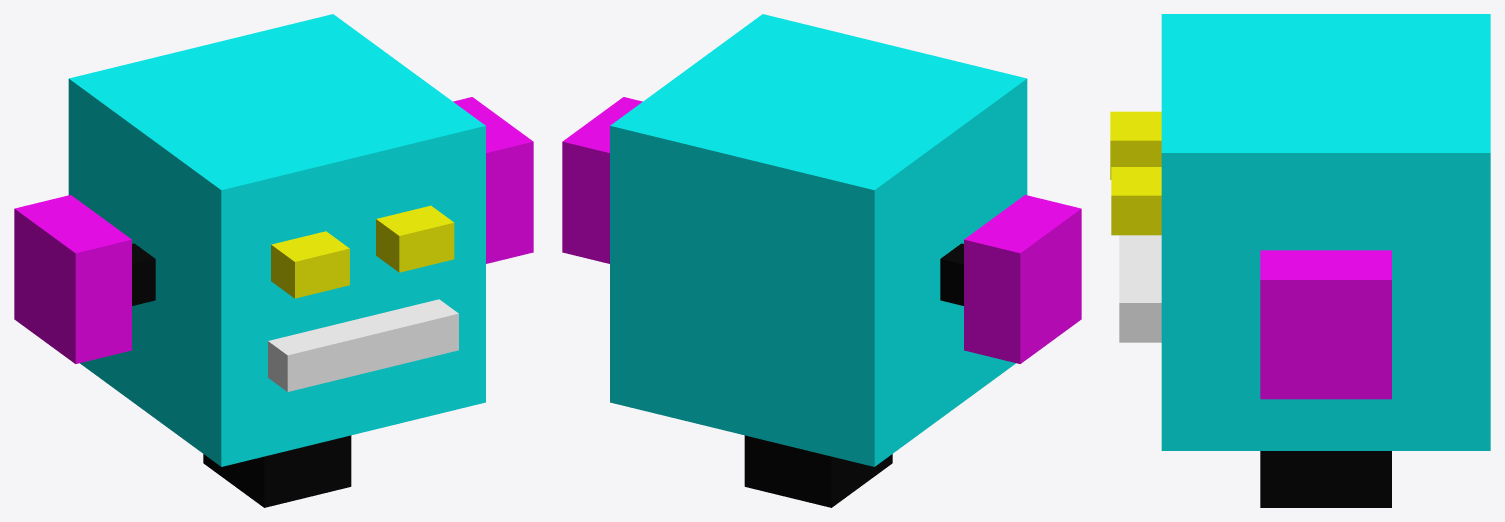
File: head.obj
3 renders of one model, left to right at view 1: azimuth 30°, elevation 25°; view 2: azimuth 150°, elevation 25°; view 3: azimuth 270°, elevation 25°, orthographic. The views are drawn at different scales.
Visible parts, largest first — view 1: pCube30 polySurface31, pCube30 polySurface35, pCube30 polySurface29, polySurface32 pCube30, pCube30 polySurface30, pCube30 polySurface33, pCube30 polySurface34, pCube30 polySurface37; view 2: pCube30 polySurface31, pCube30 polySurface35, polySurface32 pCube30, pCube30 polySurface30, pCube30 polySurface37; view 3: pCube30 polySurface31, polySurface32 pCube30, pCube30 polySurface30, pCube30 polySurface29, pCube30 polySurface34, pCube30 polySurface33.
Part boxes in pixels (x1,y1,x2,y2): pCube30 polySurface31: (68, 14, 485, 466); pCube30 polySurface35: (14, 195, 131, 363); pCube30 polySurface29: (268, 299, 458, 391); polySurface32 pCube30: (453, 97, 533, 263); pCube30 polySurface30: (203, 435, 351, 507); pCube30 polySurface33: (271, 231, 349, 298); pCube30 polySurface34: (376, 205, 454, 272); pCube30 polySurface37: (132, 243, 155, 305); pCube30 polySurface31: (610, 14, 1027, 466); pCube30 polySurface35: (964, 195, 1081, 363); polySurface32 pCube30: (562, 97, 642, 263); pCube30 polySurface30: (744, 435, 892, 507); pCube30 polySurface37: (940, 243, 963, 305); pCube30 polySurface31: (1161, 14, 1490, 450); polySurface32 pCube30: (1260, 250, 1391, 399); pCube30 polySurface30: (1260, 451, 1391, 507); pCube30 polySurface29: (1119, 235, 1161, 342); pCube30 polySurface34: (1111, 167, 1161, 235); pCube30 polySurface33: (1110, 111, 1161, 179).
Size of the model in its own units: 4.32 by 3.36 by 2.88.
